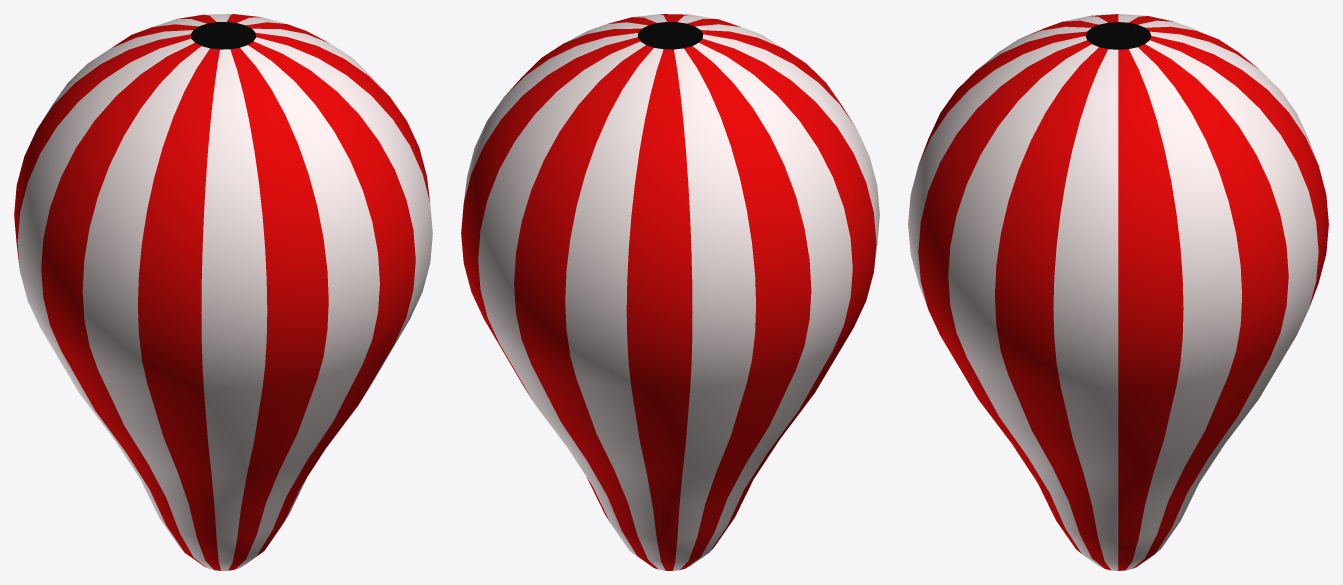
Rendered from balloon.fbx.
The picture shows the model from 3 angles, left to right: view 1: azimuth 30°, elevation 25°; view 2: azimuth 150°, elevation 25°; view 3: azimuth 270°, elevation 25°; orthographic projection.
Parts seen in each view (by area): view 1: balloon; view 2: balloon; view 3: balloon.
Part boxes in pixels (<box>): balloon: <box>14,14,432,570</box>; balloon: <box>461,14,879,570</box>; balloon: <box>908,14,1328,570</box>.
Bounding box in the file's own units: 2.18 × 3.02 × 2.18.
